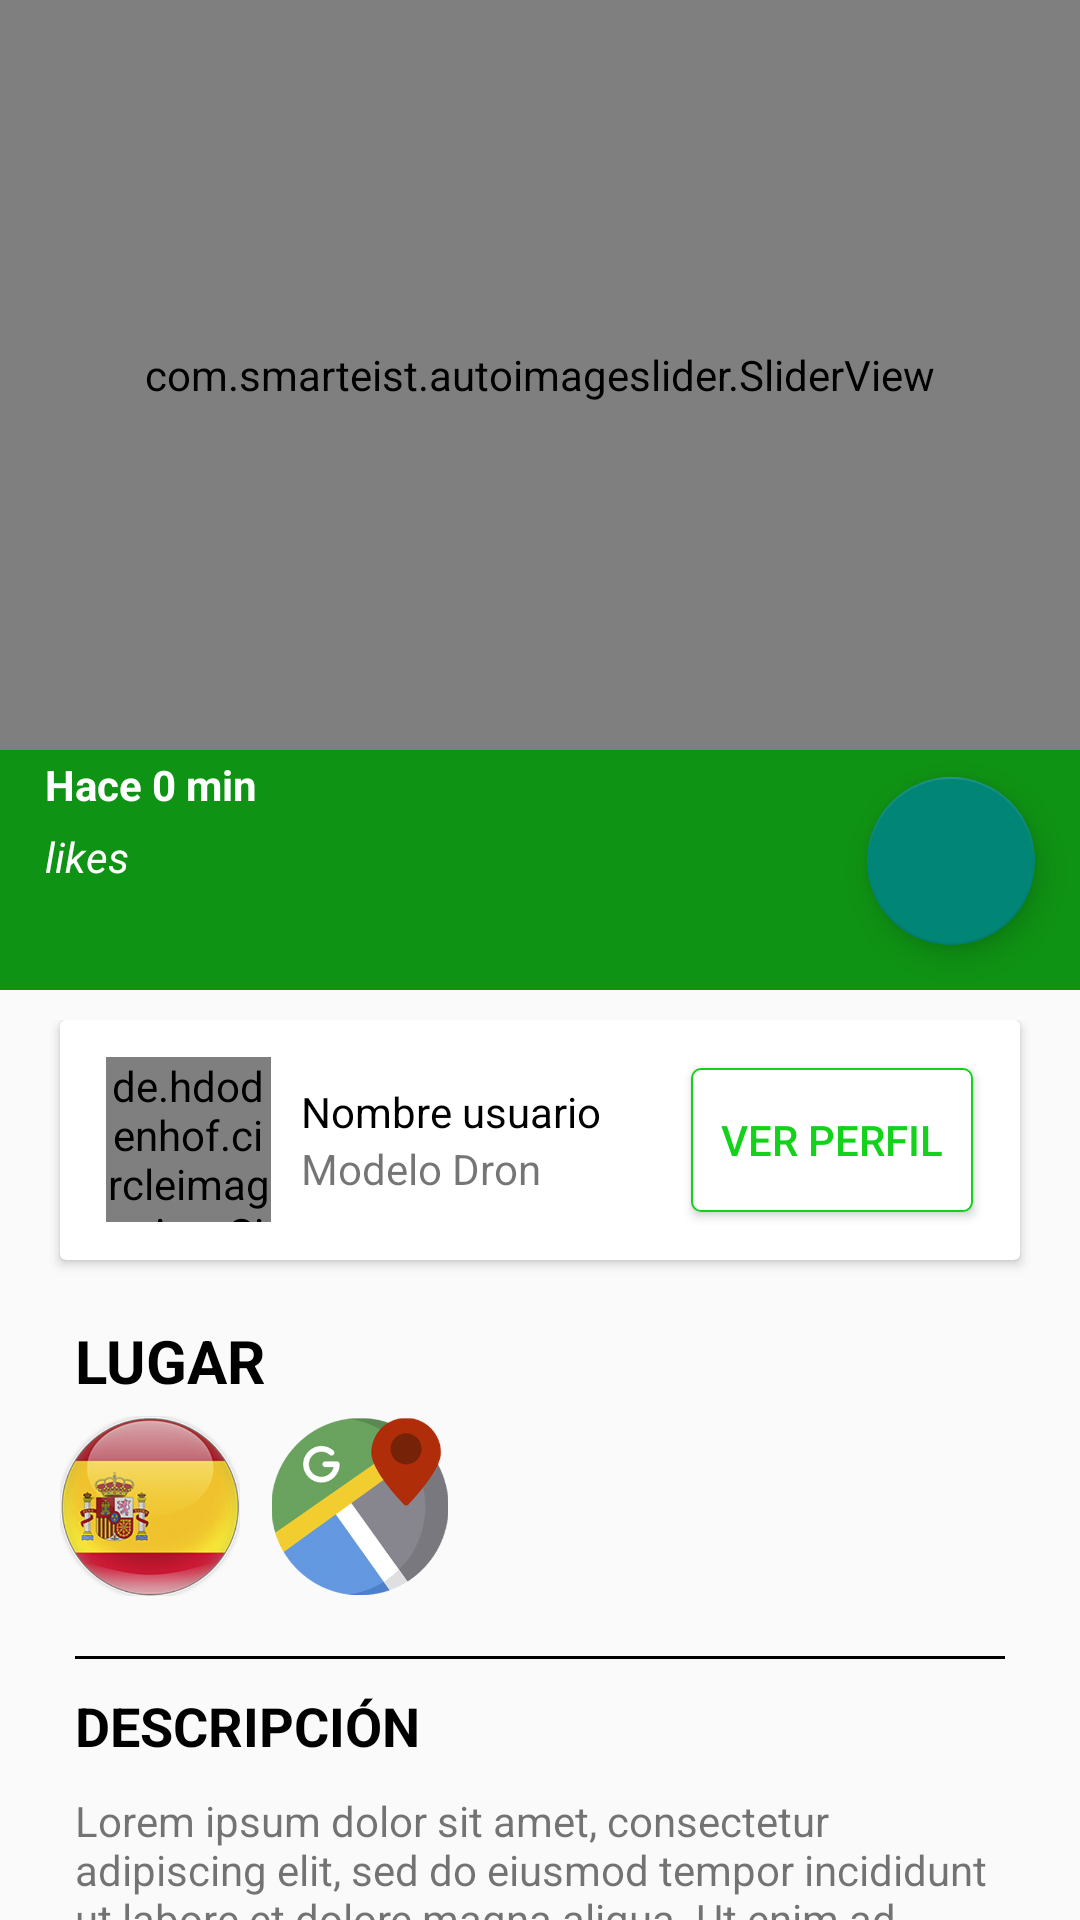

Named icons in this screenshot (1080×1920) and their bounding boxes, box(x1, y1, x2, y2):
espana: box(61, 1417, 239, 1596)
